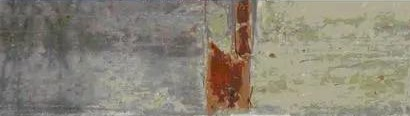Corrosion: (206, 41, 251, 116), (234, 1, 252, 57)
